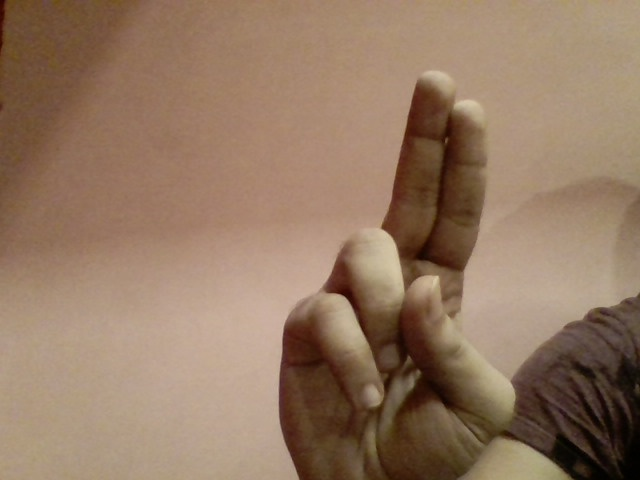u: (273, 65, 524, 472)
